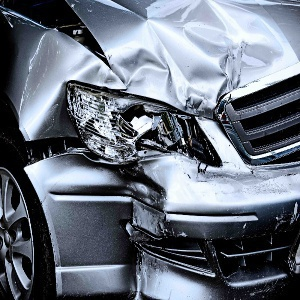bumper: (30, 156, 193, 294)
head_lights: (60, 80, 214, 164)
